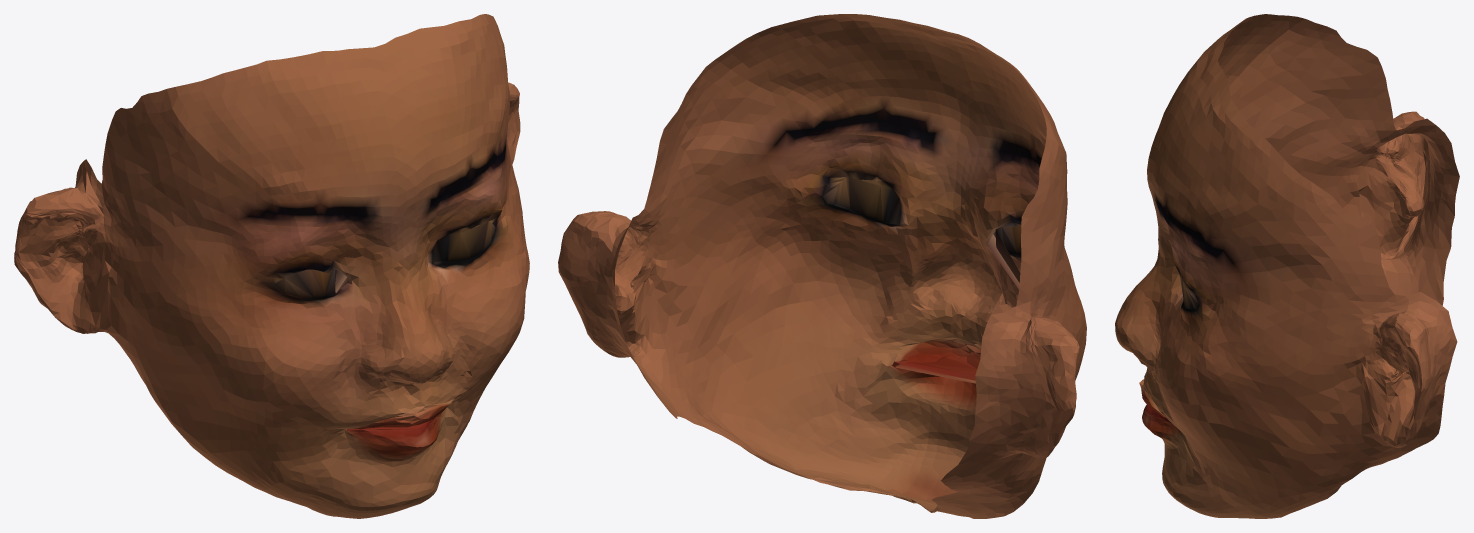
File: seed0007.obj
3 renders of one model, left to right at view 1: azimuth 30°, elevation 25°; view 2: azimuth 150°, elevation 25°; view 3: azimuth 270°, elevation 25°, orthographic. The views are drawn at different scales.
Size of the model in its own units: 238 by 211 by 147.
